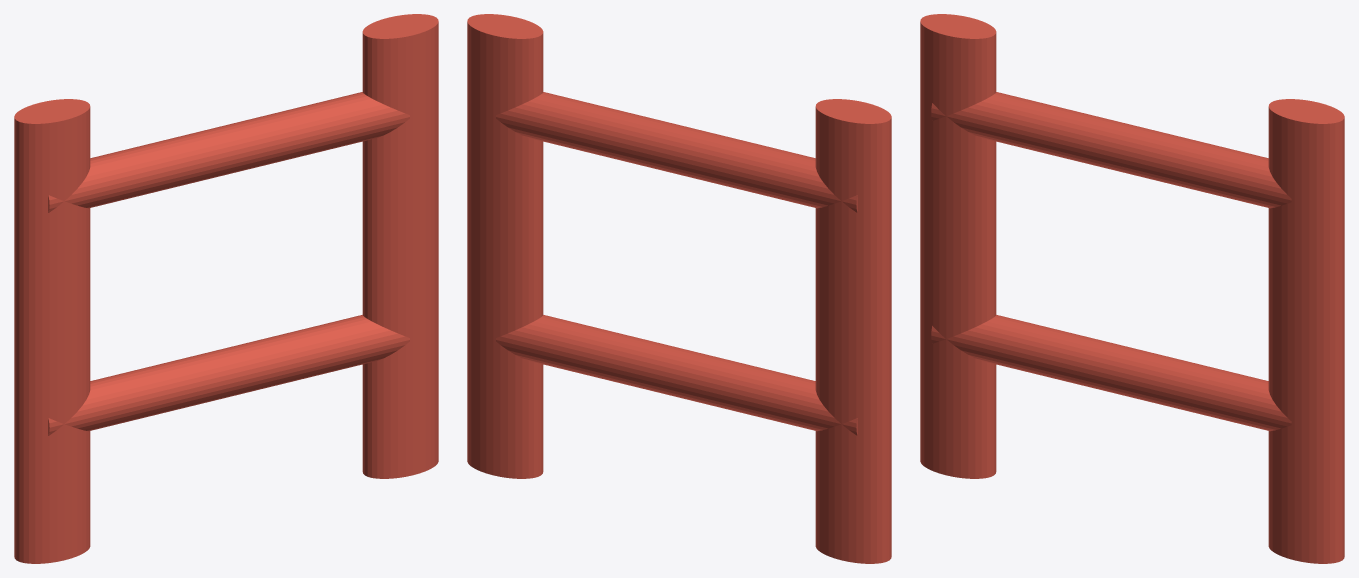
File: hasigo.obj
3 views of the same model, side by side, from view 1: azimuth 30°, elevation 25°; view 2: azimuth 150°, elevation 25°; view 3: azimuth 330°, elevation 25° (orthographic).
Parts seen in each view (by area): view 1: 円柱.002; view 2: 円柱.002; view 3: 円柱.002.
Boxes of the visible parts, bbox=[...] form: 円柱.002: bbox=[14, 14, 438, 563]; 円柱.002: bbox=[467, 14, 891, 563]; 円柱.002: bbox=[920, 14, 1344, 563].
Bounding box in the file's own units: 1 × 1 × 0.1.
Materials: 1 (1 with a texture image).
